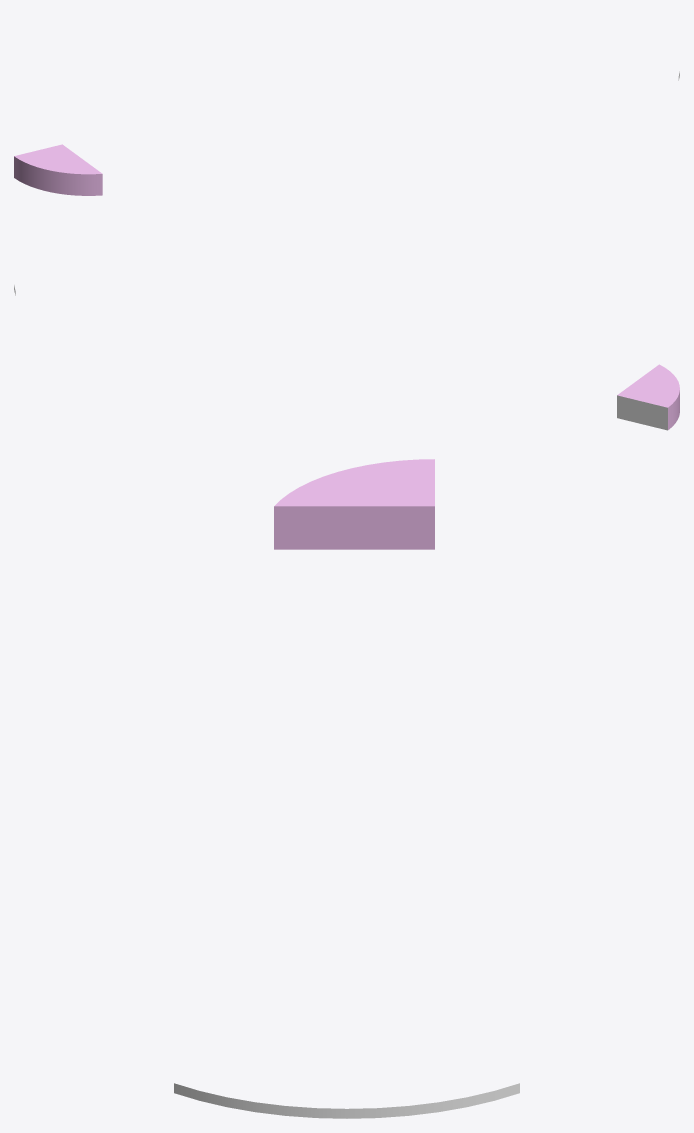
The model's file is apple.gltf.
3 views of the same model, one above another, from view 1: azimuth 30°, elevation 25°; view 2: azimuth 150°, elevation 25°; view 3: azimuth 270°, elevation 25° (orthographic). The views are drawn at different scales.
Parts seen in each view (by area): view 1: Mesh2 Model; view 2: Mesh2 Model; view 3: Mesh2 Model, Mesh1 Model.
Part boxes in pixels (left/top/right/bottom): Mesh2 Model: left=14, top=144, right=102, bottom=195; Mesh2 Model: left=617, top=364, right=679, bottom=430; Mesh2 Model: left=274, top=459, right=434, bottom=549; Mesh1 Model: left=174, top=1083, right=519, bottom=1118.
Size of the model in its own units: 238 by 8.94 by 56.99.
